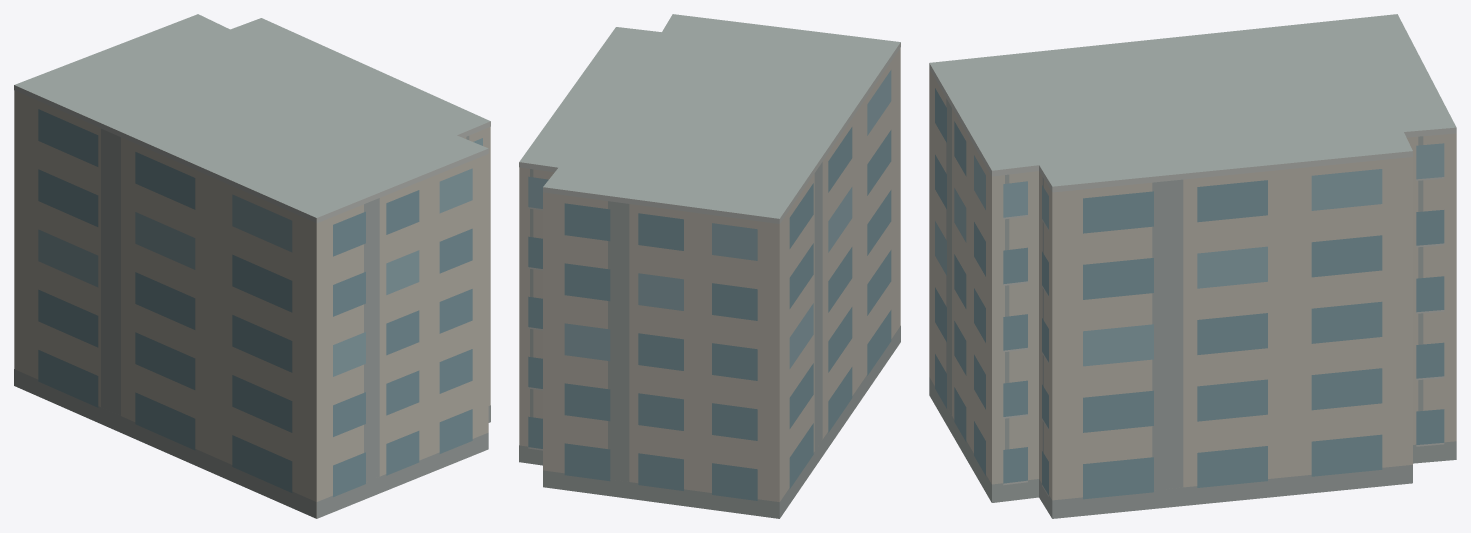
Rendered from survey-upis-32798360.glb.
The picture shows the model from 3 angles, left to right: view 1: azimuth 30°, elevation 25°; view 2: azimuth 150°, elevation 25°; view 3: azimuth 270°, elevation 25°; orthographic projection. The views are drawn at different scales.
Parts seen in each view (by area): view 1: survey-upis-32798360.tmp; view 2: survey-upis-32798360.tmp; view 3: survey-upis-32798360.tmp.
Part boxes in pixels (x1=…): survey-upis-32798360.tmp: x1=14, y1=14, x2=490, y2=518; survey-upis-32798360.tmp: x1=519, y1=14, x2=900, y2=518; survey-upis-32798360.tmp: x1=929, y1=14, x2=1456, y2=518.
Size of the model in its own units: 15.5 by 13.9 by 20.01.
